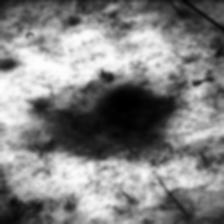Potentially Malignant Skin Tumors: (95, 88, 171, 142)
